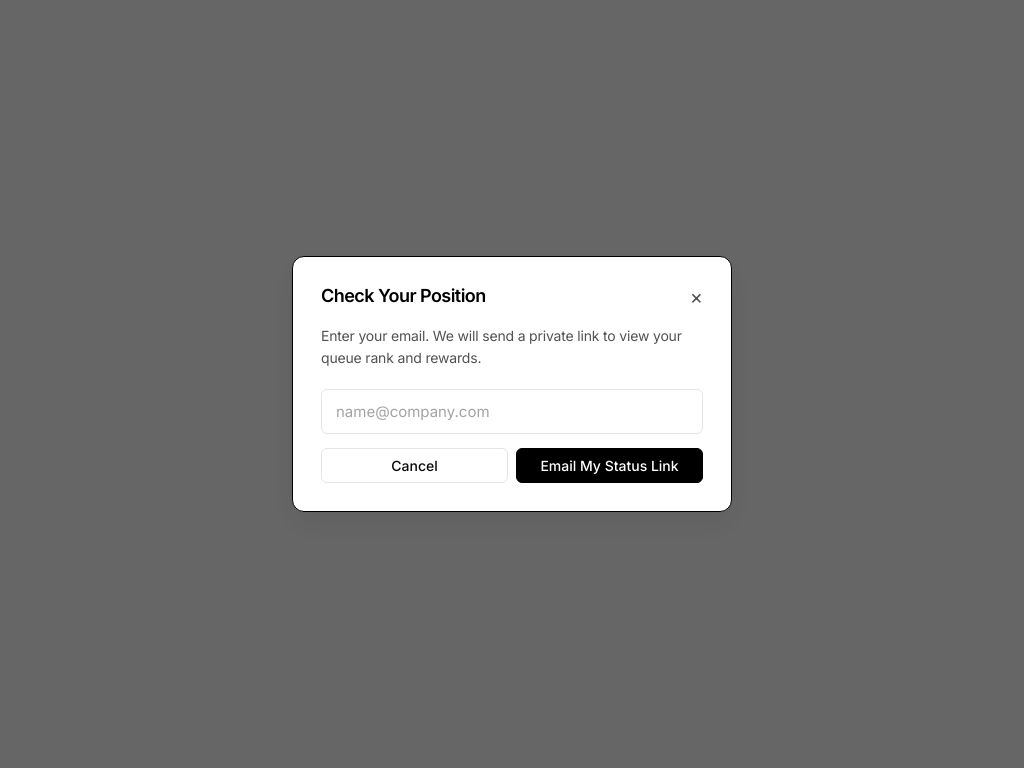
Scenario: requests a private email link without performing a public rank lookup
The width and height of the screenshot is (1024, 768).
In the field with placeholder "name@company.com": (512, 412) [321,389,703,434], type "USER@example.com"
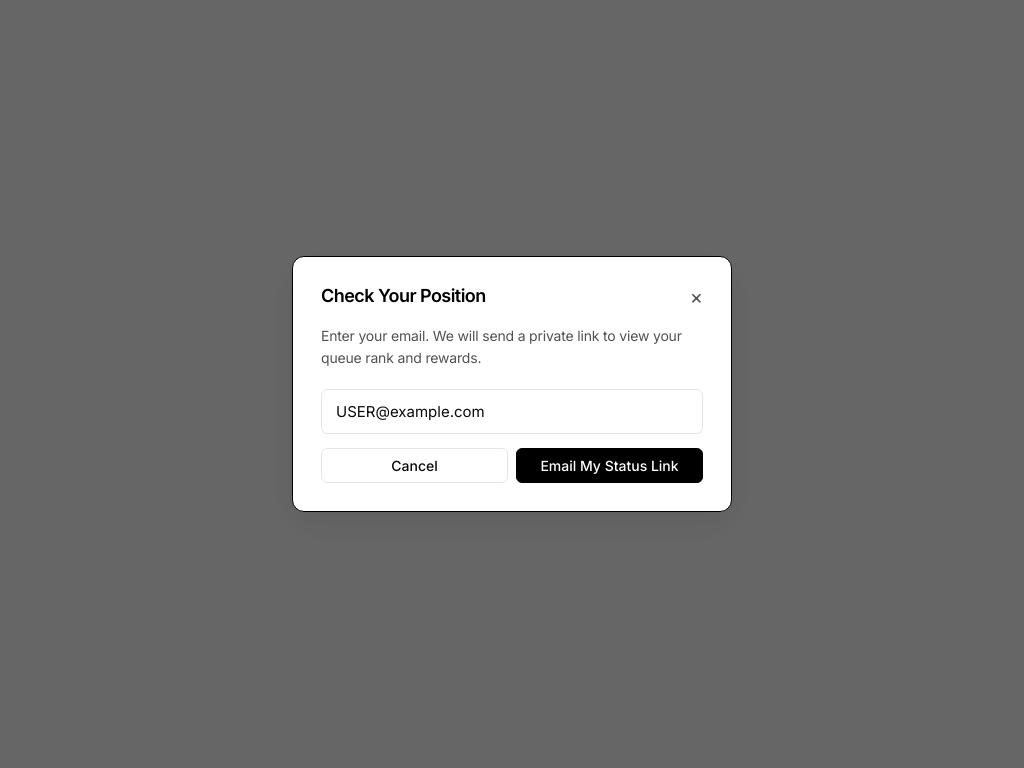
Click the button "Email My Status Link": (610, 466) [516,448,703,483]
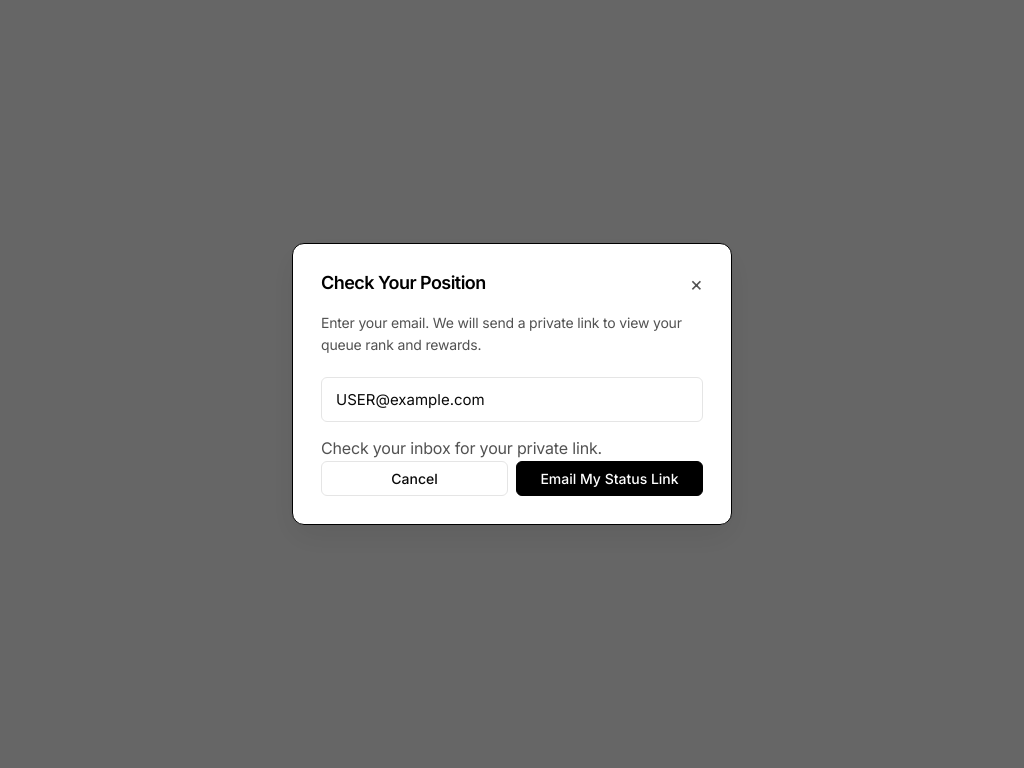
Expected: the message shows "Check your inbox", [321,438,602,458]
